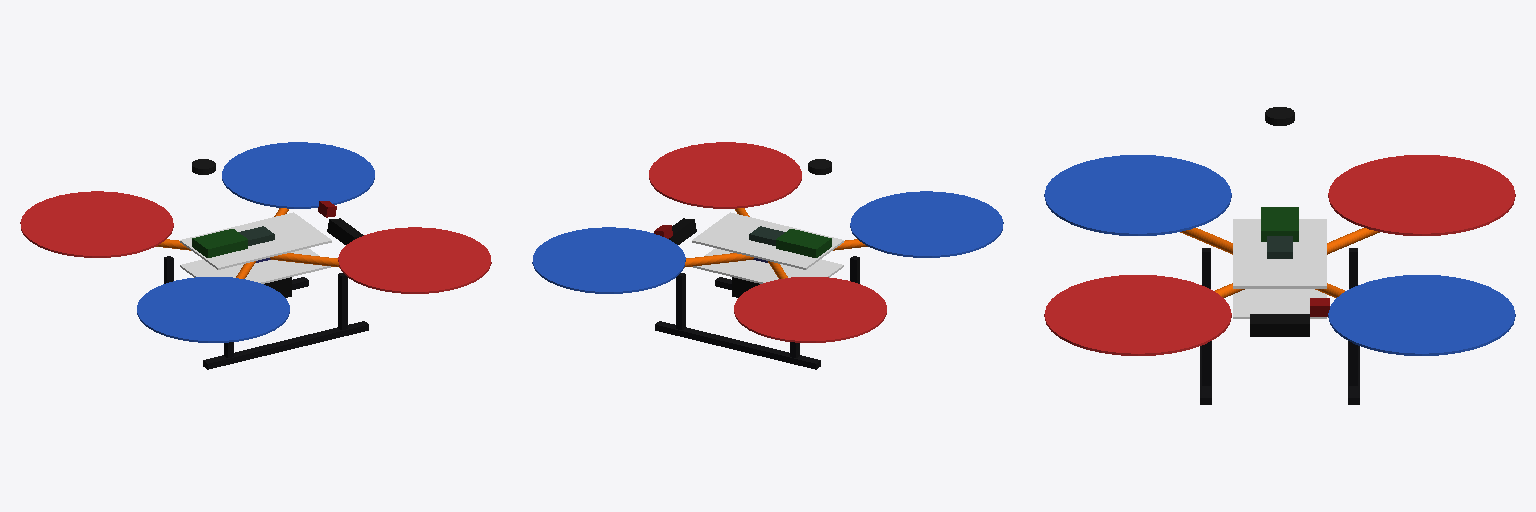
URDF robot description (disaster_response_uav):
<?xml version="1.0"?>
<robot name="disaster_response_uav">
  <!-- GENERATED by tools/build_urdf.py from config/drone.yaml. Do not hand-edit.
       Body frame = FLU (x forward, y left, z up). All joints are fixed; transforms are explicit.
       Motor numbering (PX4 quad-X): 1 front-right CCW, 2 rear-left CCW, 3 front-left CW, 4 rear-right CW.
       Placeholder masses/dimensions are listed in config/drone.yaml. Propellers are visual only. -->
  <link name="base_link">
    <inertial>
      <origin xyz="0 0 0" rpy="0 0 0"/>
      <mass value="0.001000"/>
      <inertia ixx="0.000000017" ixy="0.000000000" ixz="0.000000000" iyy="0.000000017" iyz="0.000000000" izz="0.000000017"/>
    </inertial>
  </link>
  <link name="airframe_link">
    <inertial>
      <origin xyz="0 0 0" rpy="0 0 0"/>
      <mass value="0.769000"/>
      <inertia ixx="0.010005538" ixy="0.000000000" ixz="0.000000000" iyy="0.010674004" iyz="0.000000000" izz="0.016367625"/>
    </inertial>
    <visual><origin xyz="0 0 0.050715"/><geometry><box size="0.24 0.14 0.004"/></geometry><material name="mat_plate_top"><color rgba="0.92 0.92 0.92 1"/></material></visual>
    <collision><origin xyz="0 0 0.050715"/><geometry><box size="0.24 0.14 0.004"/></geometry></collision>
    <visual><origin xyz="0 0 0.000715"/><geometry><box size="0.24 0.14 0.004"/></geometry><material name="mat_plate_bottom"><color rgba="0.92 0.92 0.92 1"/></material></visual>
    <collision><origin xyz="0 0 0.000715"/><geometry><box size="0.24 0.14 0.004"/></geometry></collision>
    <visual><origin xyz="0.10605 -0.10605 0.025715" rpy="1.570796 0.785398 0.785398"/><geometry><cylinder radius="0.008" length="0.299955"/></geometry><material name="mat_arm_front_right"><color rgba="0.95 0.45 0.05 1"/></material></visual>
    <visual><origin xyz="-0.10605 0.10605 0.025715" rpy="-1.570796 -0.785398 0.785398"/><geometry><cylinder radius="0.008" length="0.299955"/></geometry><material name="mat_arm_rear_left"><color rgba="0.95 0.45 0.05 1"/></material></visual>
    <visual><origin xyz="0.10605 0.10605 0.025715" rpy="-1.570796 0.785398 -0.785398"/><geometry><cylinder radius="0.008" length="0.299955"/></geometry><material name="mat_arm_front_left"><color rgba="0.95 0.45 0.05 1"/></material></visual>
    <visual><origin xyz="-0.10605 -0.10605 0.025715" rpy="1.570796 -0.785398 -0.785398"/><geometry><cylinder radius="0.008" length="0.299955"/></geometry><material name="mat_arm_rear_right"><color rgba="0.95 0.45 0.05 1"/></material></visual>
    <visual><origin xyz="0 0.11 -0.114285"/><geometry><box size="0.34 0.018 0.012"/></geometry><material name="mat_skid_left"><color rgba="0.10 0.10 0.11 1"/></material></visual>
    <collision><origin xyz="0 0.11 -0.114285"/><geometry><box size="0.34 0.018 0.012"/></geometry></collision>
    <visual><origin xyz="0 -0.11 -0.114285"/><geometry><box size="0.34 0.018 0.012"/></geometry><material name="mat_skid_right"><color rgba="0.10 0.10 0.11 1"/></material></visual>
    <collision><origin xyz="0 -0.11 -0.114285"/><geometry><box size="0.34 0.018 0.012"/></geometry></collision>
    <visual><origin xyz="0.12 0.11 -0.056785"/><geometry><box size="0.014 0.014 0.115"/></geometry><material name="mat_strut_fl"><color rgba="0.10 0.10 0.11 1"/></material></visual>
    <collision><origin xyz="0.12 0.11 -0.056785"/><geometry><box size="0.014 0.014 0.115"/></geometry></collision>
    <visual><origin xyz="0.12 -0.11 -0.056785"/><geometry><box size="0.014 0.014 0.115"/></geometry><material name="mat_strut_fr"><color rgba="0.10 0.10 0.11 1"/></material></visual>
    <collision><origin xyz="0.12 -0.11 -0.056785"/><geometry><box size="0.014 0.014 0.115"/></geometry></collision>
    <visual><origin xyz="-0.12 0.11 -0.056785"/><geometry><box size="0.014 0.014 0.115"/></geometry><material name="mat_strut_rl"><color rgba="0.10 0.10 0.11 1"/></material></visual>
    <collision><origin xyz="-0.12 0.11 -0.056785"/><geometry><box size="0.014 0.014 0.115"/></geometry></collision>
    <visual><origin xyz="-0.12 -0.11 -0.056785"/><geometry><box size="0.014 0.014 0.115"/></geometry><material name="mat_strut_rr"><color rgba="0.10 0.10 0.11 1"/></material></visual>
    <collision><origin xyz="-0.12 -0.11 -0.056785"/><geometry><box size="0.014 0.014 0.115"/></geometry></collision>
  </link>
  <joint name="airframe_joint" type="fixed">
    <parent link="base_link"/><child link="airframe_link"/>
    <origin xyz="0 0 -0.025715" rpy="0 0 0"/>
  </joint>
  <link name="flight_controller_link">
    <inertial>
      <origin xyz="0 0 0" rpy="0 0 0"/>
      <mass value="0.070000"/>
      <inertia ixx="0.000010173" ixy="0.000000000" ixz="0.000000000" iyy="0.000018486" iyz="0.000000000" izz="0.000026979"/>
    </inertial>
    <visual><geometry><box size="0.055 0.04 0.012"/></geometry><material name="flight_controller_link_m"><color rgba="0.18 0.25 0.22 1"/></material></visual>
  </link>
  <joint name="flight_controller_joint" type="fixed">
    <parent link="base_link"/><child link="flight_controller_link"/>
    <origin xyz="0 0 0.035" rpy="0 0 0"/>
  </joint>
  <link name="raspberry_pi_link">
    <inertial>
      <origin xyz="0 0 0" rpy="0 0 0"/>
      <mass value="0.070000"/>
      <inertia ixx="0.000020183" ixy="0.000000000" ixz="0.000000000" iyy="0.000045033" iyz="0.000000000" izz="0.000061437"/>
    </inertial>
    <visual><geometry><box size="0.086 0.056 0.018"/></geometry><material name="raspberry_pi_link_m"><color rgba="0.12 0.32 0.12 1"/></material></visual>
  </link>
  <joint name="raspberry_pi_joint" type="fixed">
    <parent link="base_link"/><child link="raspberry_pi_link"/>
    <origin xyz="-0.075 0 0.038" rpy="0 0 0"/>
  </joint>
  <link name="esc_link">
    <inertial>
      <origin xyz="0 0 0" rpy="0 0 0"/>
      <mass value="0.142000"/>
      <inertia ixx="0.000031287" ixy="0.000000000" ixz="0.000000000" iyy="0.000044304" iyz="0.000000000" izz="0.000072183"/>
    </inertial>
    <visual><geometry><box size="0.06 0.05 0.012"/></geometry><material name="esc_link_m"><color rgba="0.20 0.20 0.45 1"/></material></visual>
  </link>
  <joint name="esc_joint" type="fixed">
    <parent link="base_link"/><child link="esc_link"/>
    <origin xyz="0 0 0" rpy="0 0 0"/>
  </joint>
  <link name="battery_link">
    <inertial>
      <origin xyz="0 0 0" rpy="0 0 0"/>
      <mass value="0.650000"/>
      <inertia ixx="0.000429271" ixy="0.000000000" ixz="0.000000000" iyy="0.001465208" iyz="0.000000000" izz="0.001566771"/>
    </inertial>
    <visual><geometry><box size="0.155 0.07 0.055"/></geometry><material name="battery_link_m"><color rgba="0.09 0.09 0.09 1"/></material></visual>
  </link>
  <joint name="battery_joint" type="fixed">
    <parent link="base_link"/><child link="battery_link"/>
    <origin xyz="-0.021692 0 -0.0575" rpy="0 0 0"/>
  </joint>
  <link name="rgbd_camera_link">
    <inertial>
      <origin xyz="0 0 0" rpy="0 0 0"/>
      <mass value="0.090000"/>
      <inertia ixx="0.000065437" ixy="0.000000000" ixz="0.000000000" iyy="0.000009375" iyz="0.000000000" izz="0.000065437"/>
    </inertial>
    <visual><geometry><box size="0.025 0.09 0.025"/></geometry><material name="rgbd_camera_link_m"><color rgba="0.10 0.10 0.10 1"/></material></visual>
  </link>
  <joint name="rgbd_camera_joint" type="fixed">
    <parent link="base_link"/><child link="rgbd_camera_link"/>
    <origin xyz="0.19 0 -0.005" rpy="0 0.174533 0"/>
  </joint>
  <link name="thermal_camera_link">
    <inertial>
      <origin xyz="0 0 0" rpy="0 0 0"/>
      <mass value="0.030000"/>
      <inertia ixx="0.000003250" ixy="0.000000000" ixz="0.000000000" iyy="0.000002000" iyz="0.000000000" izz="0.000003250"/>
    </inertial>
    <visual><geometry><box size="0.02 0.03 0.02"/></geometry><material name="thermal_camera_link_m"><color rgba="0.55 0.10 0.10 1"/></material></visual>
  </link>
  <joint name="thermal_camera_joint" type="fixed">
    <parent link="base_link"/><child link="thermal_camera_link"/>
    <origin xyz="0.185 0.06 0.022" rpy="0 0.174533 0"/>
  </joint>
  <link name="rgbd_camera_optical_link">
    <inertial><mass value="0"/><inertia ixx="0" ixy="0" ixz="0" iyy="0" iyz="0" izz="0"/></inertial>
  </link>
  <joint name="rgbd_camera_optical_joint" type="fixed">
    <parent link="rgbd_camera_link"/><child link="rgbd_camera_optical_link"/>
    <origin xyz="0 0 0" rpy="-1.570796 0 -1.570796"/>
  </joint>
  <link name="gps_link">
    <inertial>
      <origin xyz="0 0 0" rpy="0 0 0"/>
      <mass value="0.030000"/>
      <inertia ixx="0.000003990" ixy="0.000000000" ixz="0.000000000" iyy="0.000003990" iyz="0.000000000" izz="0.000007260"/>
    </inertial>
    <visual><geometry><cylinder radius="0.022" length="0.012"/></geometry><material name="gps_m"><color rgba="0.12 0.12 0.12 1"/></material></visual>
  </link>
  <joint name="gps_joint" type="fixed">
    <parent link="base_link"/><child link="gps_link"/>
    <origin xyz="-0.11 0 0.2" rpy="0 0 0"/>
  </joint>
  <link name="motor_1_link">
    <inertial>
      <origin xyz="0 0 0" rpy="0 0 0"/>
      <mass value="0.080000"/>
      <inertia ixx="0.000012125" ixy="0.000000000" ixz="0.000000000" iyy="0.000012125" iyz="0.000000000" izz="0.000012250"/>
    </inertial>
    <visual><geometry><cylinder radius="0.0175" length="0.03"/></geometry><material name="motor1"><color rgba="0.08 0.08 0.08 1"/></material></visual>
    <collision><geometry><cylinder radius="0.0175" length="0.03"/></geometry></collision>
  </link>
  <joint name="motor_1_joint" type="fixed">
    <parent link="base_link"/><child link="motor_1_link"/>
    <origin xyz="0.2121 -0.2121 0" rpy="0 0 0"/>
  </joint>
  <link name="rotor_1_link"><!-- spin CCW seen from above -->
    <inertial>
      <origin xyz="0 0 0" rpy="0 0 0"/>
      <mass value="0.007000"/>
      <inertia ixx="0.000034309" ixy="0.000000000" ixz="0.000000000" iyy="0.000034309" iyz="0.000000000" izz="0.000068600"/>
    </inertial>
    <visual><geometry><cylinder radius="0.14" length="0.004"/></geometry><material name="rotor1"><color rgba="0.8 0.2 0.2 0.45"/></material></visual>
  </link>
  <joint name="rotor_1_joint" type="fixed">
    <parent link="motor_1_link"/><child link="rotor_1_link"/>
    <origin xyz="0 0 0.022" rpy="0 0 0"/>
  </joint>
  <link name="motor_2_link">
    <inertial>
      <origin xyz="0 0 0" rpy="0 0 0"/>
      <mass value="0.080000"/>
      <inertia ixx="0.000012125" ixy="0.000000000" ixz="0.000000000" iyy="0.000012125" iyz="0.000000000" izz="0.000012250"/>
    </inertial>
    <visual><geometry><cylinder radius="0.0175" length="0.03"/></geometry><material name="motor2"><color rgba="0.08 0.08 0.08 1"/></material></visual>
    <collision><geometry><cylinder radius="0.0175" length="0.03"/></geometry></collision>
  </link>
  <joint name="motor_2_joint" type="fixed">
    <parent link="base_link"/><child link="motor_2_link"/>
    <origin xyz="-0.2121 0.2121 0" rpy="0 0 0"/>
  </joint>
  <link name="rotor_2_link"><!-- spin CCW seen from above -->
    <inertial>
      <origin xyz="0 0 0" rpy="0 0 0"/>
      <mass value="0.007000"/>
      <inertia ixx="0.000034309" ixy="0.000000000" ixz="0.000000000" iyy="0.000034309" iyz="0.000000000" izz="0.000068600"/>
    </inertial>
    <visual><geometry><cylinder radius="0.14" length="0.004"/></geometry><material name="rotor2"><color rgba="0.8 0.2 0.2 0.45"/></material></visual>
  </link>
  <joint name="rotor_2_joint" type="fixed">
    <parent link="motor_2_link"/><child link="rotor_2_link"/>
    <origin xyz="0 0 0.022" rpy="0 0 0"/>
  </joint>
  <link name="motor_3_link">
    <inertial>
      <origin xyz="0 0 0" rpy="0 0 0"/>
      <mass value="0.080000"/>
      <inertia ixx="0.000012125" ixy="0.000000000" ixz="0.000000000" iyy="0.000012125" iyz="0.000000000" izz="0.000012250"/>
    </inertial>
    <visual><geometry><cylinder radius="0.0175" length="0.03"/></geometry><material name="motor3"><color rgba="0.08 0.08 0.08 1"/></material></visual>
    <collision><geometry><cylinder radius="0.0175" length="0.03"/></geometry></collision>
  </link>
  <joint name="motor_3_joint" type="fixed">
    <parent link="base_link"/><child link="motor_3_link"/>
    <origin xyz="0.2121 0.2121 0" rpy="0 0 0"/>
  </joint>
  <link name="rotor_3_link"><!-- spin CW seen from above -->
    <inertial>
      <origin xyz="0 0 0" rpy="0 0 0"/>
      <mass value="0.007000"/>
      <inertia ixx="0.000034309" ixy="0.000000000" ixz="0.000000000" iyy="0.000034309" iyz="0.000000000" izz="0.000068600"/>
    </inertial>
    <visual><geometry><cylinder radius="0.14" length="0.004"/></geometry><material name="rotor3"><color rgba="0.2 0.4 0.8 0.45"/></material></visual>
  </link>
  <joint name="rotor_3_joint" type="fixed">
    <parent link="motor_3_link"/><child link="rotor_3_link"/>
    <origin xyz="0 0 0.022" rpy="0 0 0"/>
  </joint>
  <link name="motor_4_link">
    <inertial>
      <origin xyz="0 0 0" rpy="0 0 0"/>
      <mass value="0.080000"/>
      <inertia ixx="0.000012125" ixy="0.000000000" ixz="0.000000000" iyy="0.000012125" iyz="0.000000000" izz="0.000012250"/>
    </inertial>
    <visual><geometry><cylinder radius="0.0175" length="0.03"/></geometry><material name="motor4"><color rgba="0.08 0.08 0.08 1"/></material></visual>
    <collision><geometry><cylinder radius="0.0175" length="0.03"/></geometry></collision>
  </link>
  <joint name="motor_4_joint" type="fixed">
    <parent link="base_link"/><child link="motor_4_link"/>
    <origin xyz="-0.2121 -0.2121 0" rpy="0 0 0"/>
  </joint>
  <link name="rotor_4_link"><!-- spin CW seen from above -->
    <inertial>
      <origin xyz="0 0 0" rpy="0 0 0"/>
      <mass value="0.007000"/>
      <inertia ixx="0.000034309" ixy="0.000000000" ixz="0.000000000" iyy="0.000034309" iyz="0.000000000" izz="0.000068600"/>
    </inertial>
    <visual><geometry><cylinder radius="0.14" length="0.004"/></geometry><material name="rotor4"><color rgba="0.2 0.4 0.8 0.45"/></material></visual>
  </link>
  <joint name="rotor_4_joint" type="fixed">
    <parent link="motor_4_link"/><child link="rotor_4_link"/>
    <origin xyz="0 0 0.022" rpy="0 0 0"/>
  </joint>
</robot>

--- Render facts (derived) ---
3 views of the same robot in one strip: view 1: azimuth 30°, elevation 25°; view 2: azimuth 150°, elevation 25°; view 3: azimuth 270°, elevation 25° (orthographic).
Model disaster_response_uav with 18 links and 17 joints (17 fixed), rooted at base_link, posed every joint at zero.
Links seen in each view (by area): view 1: airframe_link, rotor_1_link, rotor_2_link, rotor_4_link, rotor_3_link, raspberry_pi_link, rgbd_camera_link; view 2: airframe_link, rotor_1_link, rotor_3_link, rotor_4_link, rotor_2_link, raspberry_pi_link; view 3: rotor_1_link, rotor_2_link, rotor_4_link, rotor_3_link, airframe_link, rgbd_camera_link, raspberry_pi_link, flight_controller_link.
Boxes of the visible links, box(x1,y1,x2,y2) form: airframe_link: box(156, 208, 368, 369); rotor_1_link: box(338, 227, 491, 293); rotor_2_link: box(20, 191, 173, 257); rotor_4_link: box(137, 277, 289, 342); rotor_3_link: box(222, 142, 374, 208); raspberry_pi_link: box(192, 229, 247, 257); rgbd_camera_link: box(327, 218, 363, 244); airframe_link: box(655, 208, 867, 369); rotor_1_link: box(649, 142, 801, 208); rotor_3_link: box(532, 227, 685, 293); rotor_4_link: box(850, 191, 1003, 257); rotor_2_link: box(734, 277, 886, 342); raspberry_pi_link: box(776, 229, 831, 257); rotor_1_link: box(1044, 275, 1231, 355); rotor_2_link: box(1328, 155, 1515, 235); rotor_4_link: box(1044, 155, 1231, 235); rotor_3_link: box(1328, 275, 1515, 355); airframe_link: box(1180, 219, 1379, 404); rgbd_camera_link: box(1250, 314, 1309, 336); raspberry_pi_link: box(1261, 207, 1298, 241); flight_controller_link: box(1267, 236, 1292, 258).
Size in the robot's own frame: 0.7042 by 0.7042 by 0.352 metres.
Geometry: primitives only (box / cylinder / sphere), no mesh files.
